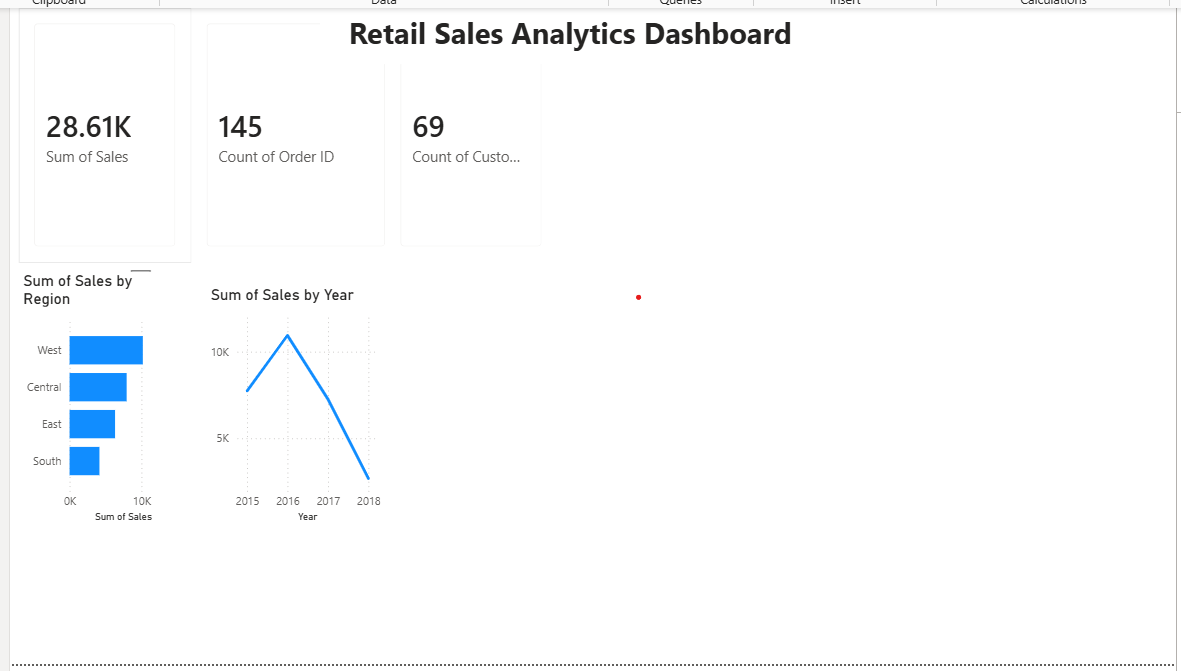

The dashboard page shown, as its layout file describes it:
{"tool":"powerbi","page":{"name":"Executive Dashboard","canvas":[1280,720],"ordinal":0},"visuals":[{"type":"cardVisual","fields":{"Data":["Sum(sales_project.Sales)"]},"box":[9.6,0,189.4,279.9],"z":0},{"type":"cardVisual","fields":{"Data":["CountNonNull(sales_project.Order ID)"]},"box":[199,0,230.5,279.9],"z":1000},{"type":"cardVisual","fields":{"Data":["Count(sales_project.Customer ID)"]},"box":[411.7,0,189.4,279.9],"z":2000},{"type":"clusteredBarChart","fields":{"Category":["sales_project.Region"],"Y":["Sum(sales_project.Sales)"]},"box":[9.6,289.5,189.4,279.9],"z":3000},{"type":"lineChart","fields":{"Category":["sales_project.Order Date.Variation.Date Hierarchy.Year","sales_project.Order Date.Variation.Date Hierarchy.Quarter","sales_project.Order Date.Variation.Date Hierarchy.Month","sales_project.Order Date.Variation.Date Hierarchy.Day"],"Y":["Sum(sales_project.Sales)"]},"box":[215.4,304.6,196.2,264.8],"z":4000},{"type":"textbox","box":[340.3,0,525.6,61.7],"z":5000}]}

Visuals, with their boxes on the page's 1280x720 design canvas (x1, y1, x2, y2). These are canvas units, not pixel positions in the 1181x671 screenshot, which may show the page scaled, cropped or inside an application window:
cardVisual - Sum(sales_project.Sales): l=10, t=0, r=199, b=280
cardVisual - CountNonNull(sales_project.Order ID): l=199, t=0, r=430, b=280
cardVisual - Count(sales_project.Customer ID): l=412, t=0, r=601, b=280
clusteredBarChart - sales_project.Region x Sum(sales_project.Sales): l=10, t=290, r=199, b=569
lineChart - sales_project.Order Date.Variation.Date Hierarchy.Year x sales_project.Order Date.Variation.Date Hierarchy.Quarter: l=215, t=305, r=412, b=569
textbox: l=340, t=0, r=866, b=62
